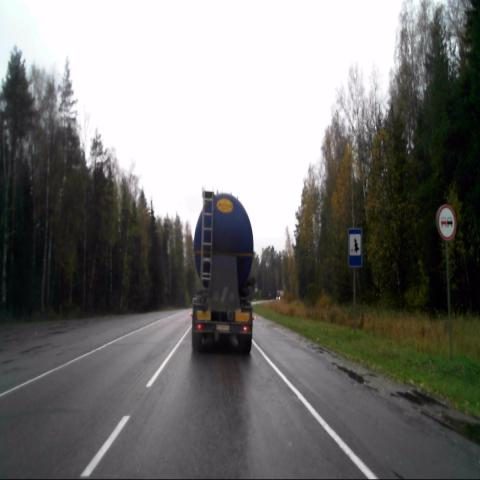7_11: (347, 229, 363, 269)
